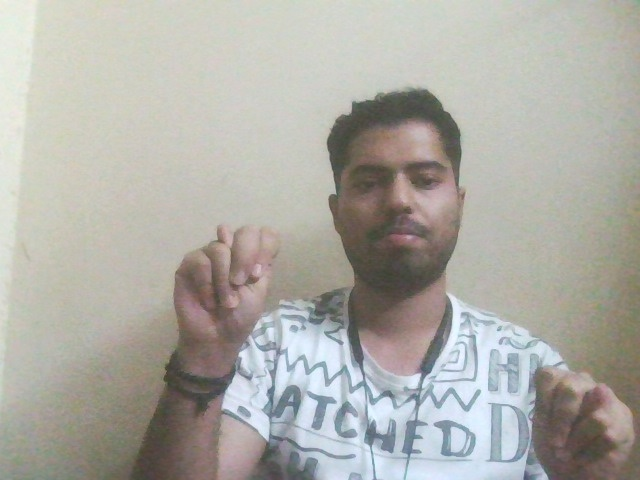P: (159, 211, 305, 355)
